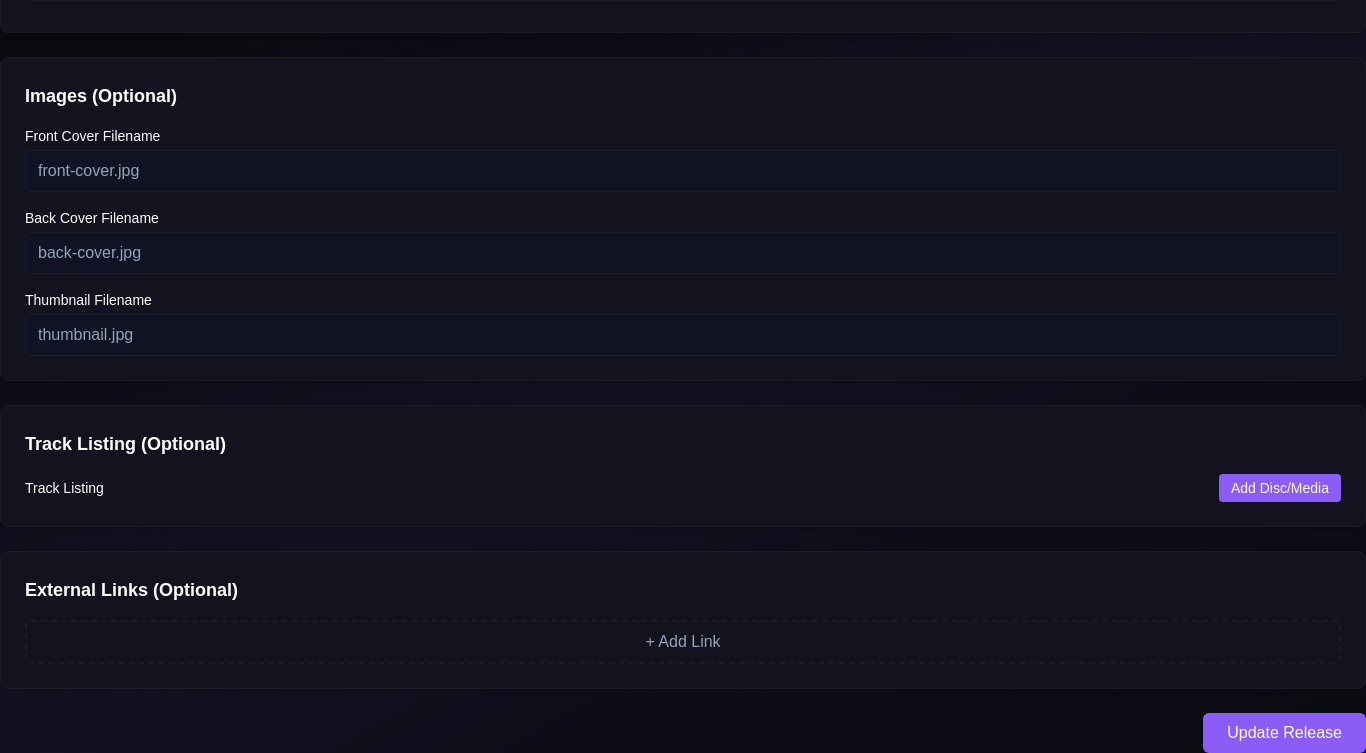
Test: AddReleaseForm - Edit Mode › displays a generic error message when updateRelease throws an unknown error
(page scrolled)
Click the button "Update Release" at (1285, 733), box [1203,713,1365,752]
(page scrolled)
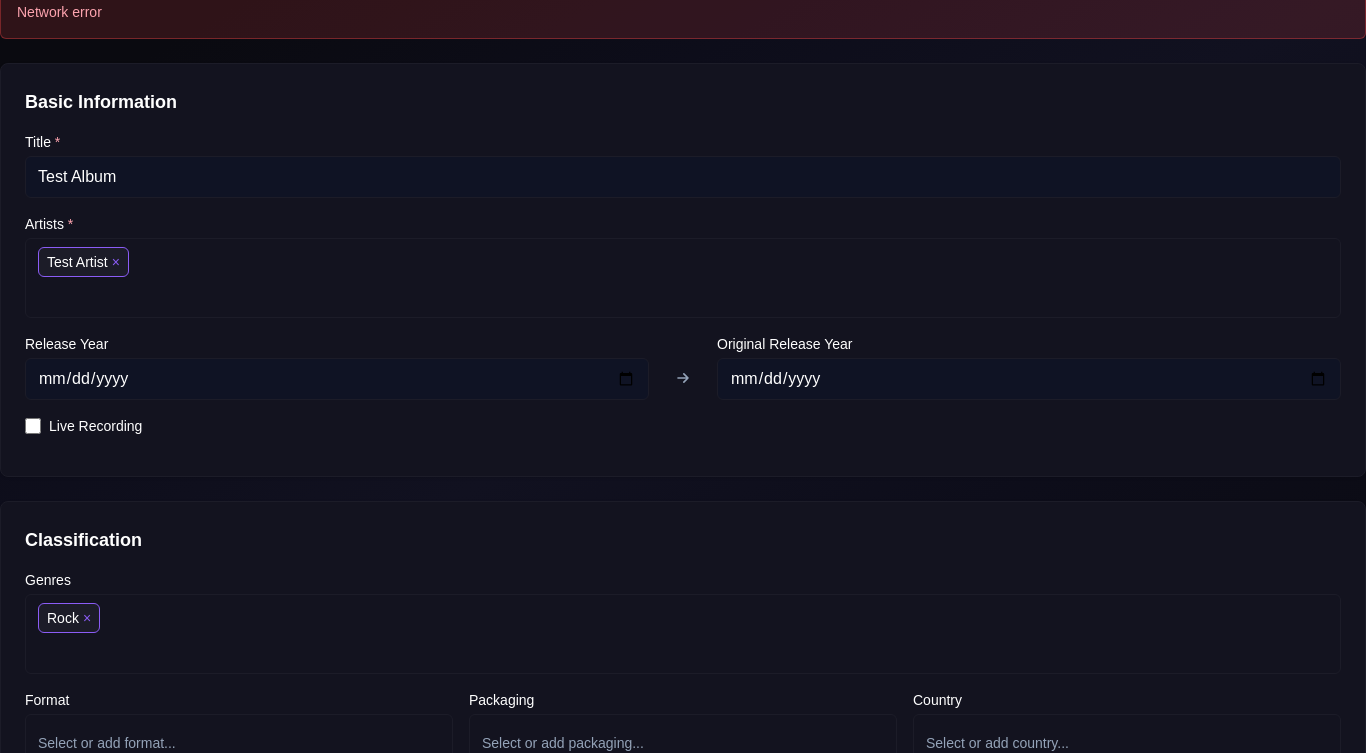
Expected: the message reads "Network error", [17,4,102,20]
